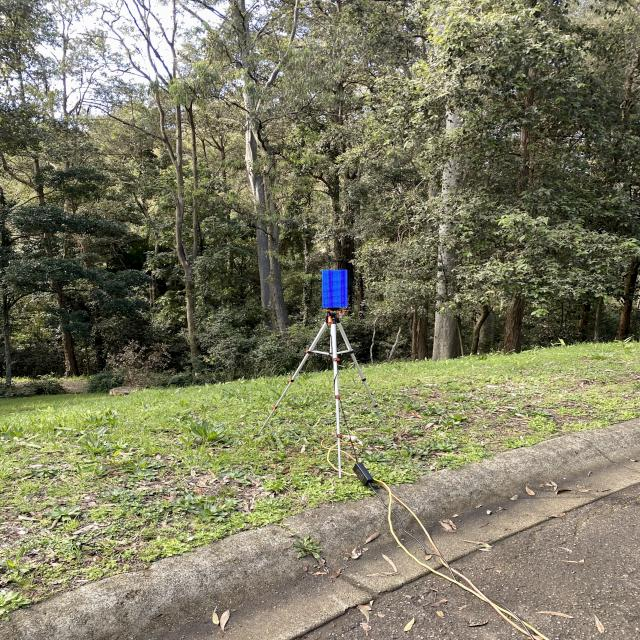matrix: (318, 260, 357, 313)
